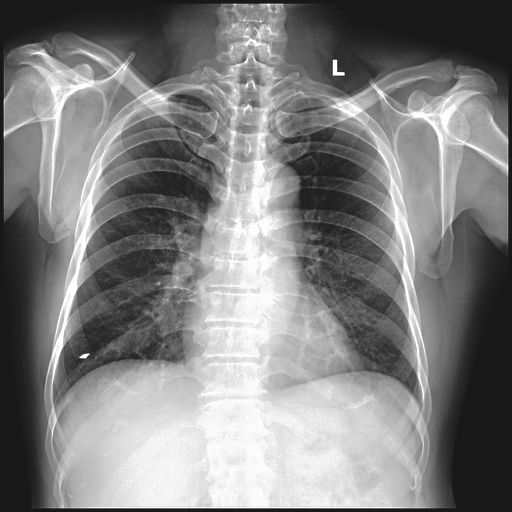Consolidation: (253, 155, 300, 219)
Other lesion: (78, 352, 90, 359)
